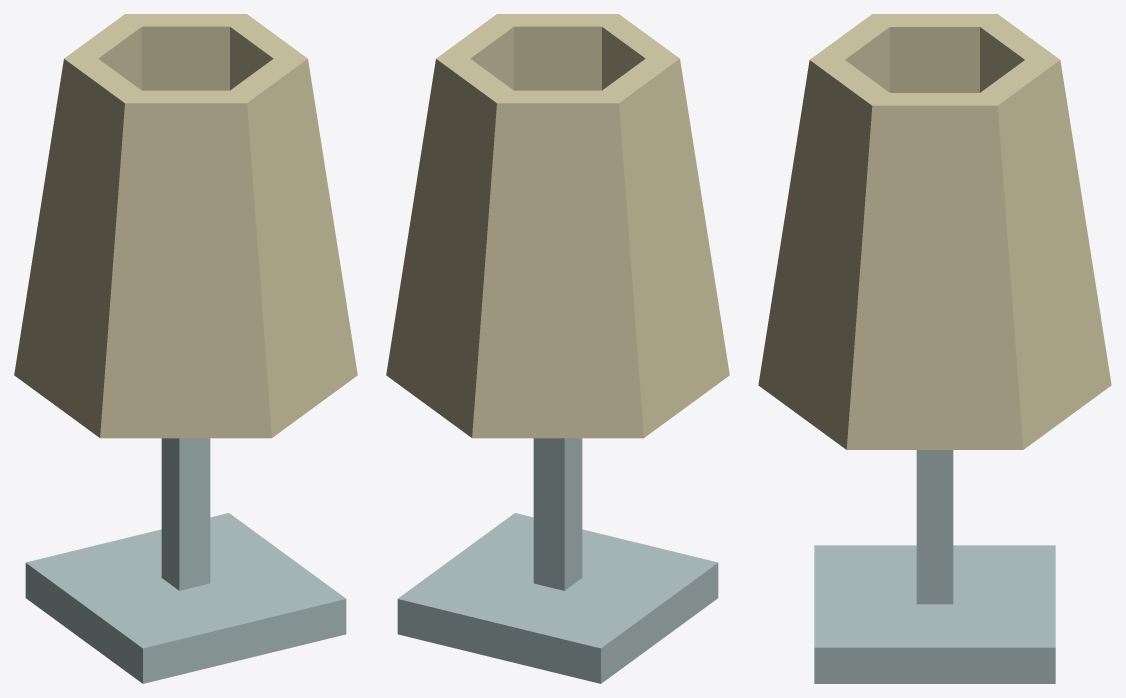
Rendered from furn_lamp_table.glb.
The picture shows the model from 3 angles, left to right: view 1: azimuth 30°, elevation 25°; view 2: azimuth 150°, elevation 25°; view 3: azimuth 270°, elevation 25°; orthographic projection. The views are drawn at different scales.
Parts seen in each view (by area): view 1: furn_lamp_table; view 2: furn_lamp_table; view 3: furn_lamp_table.
Part boxes in pixels (x1=…): furn_lamp_table: x1=14, y1=14, x2=357, y2=683; furn_lamp_table: x1=386, y1=14, x2=729, y2=683; furn_lamp_table: x1=758, y1=14, x2=1111, y2=683.
Size of the model in its own units: 0.3041 by 0.6285 by 0.3511.
